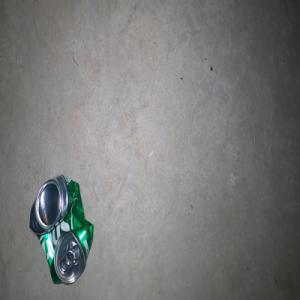SodaCan: (29, 173, 93, 284)
